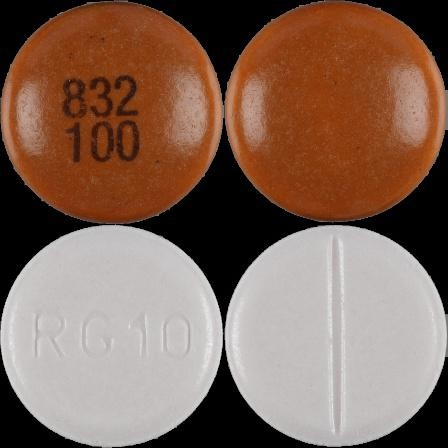53808-0928: (0, 0, 224, 224)
